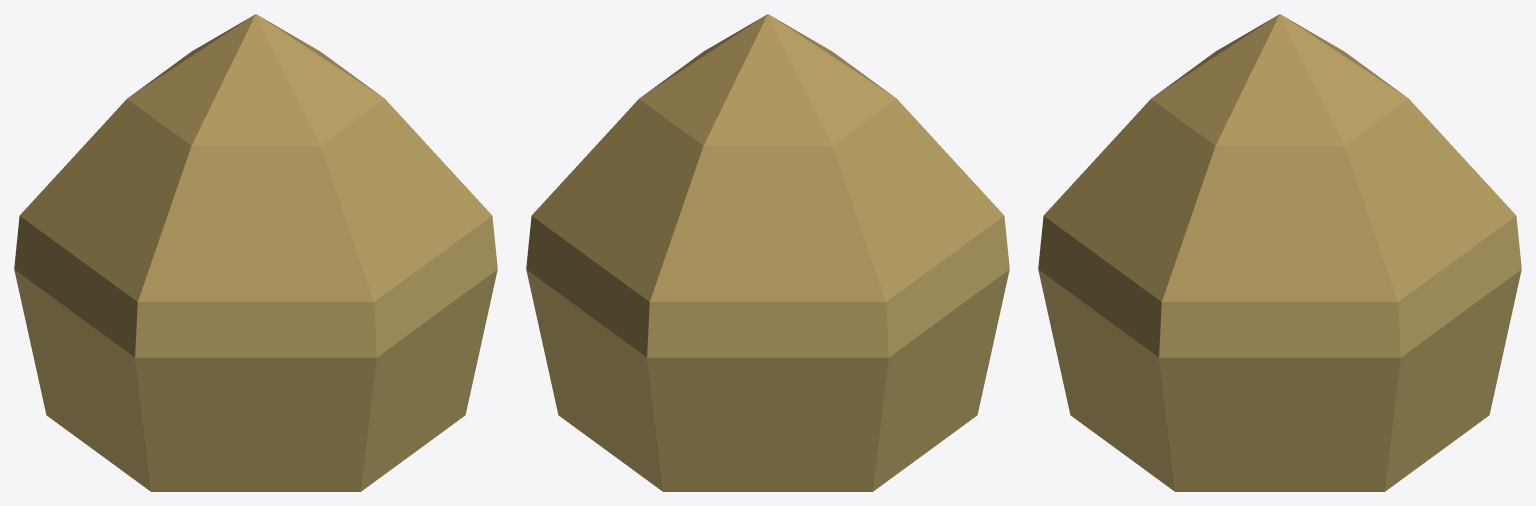
Rendered from land_haystack_far.glb.
3 renders of one model, left to right at view 1: azimuth 30°, elevation 25°; view 2: azimuth 150°, elevation 25°; view 3: azimuth 270°, elevation 25°, orthographic.
Visible parts, largest first — view 1: land_haystack_far; view 2: land_haystack_far; view 3: land_haystack_far.
Boxes of the visible parts, x1,y1,x2,y2 form: land_haystack_far: [14, 14, 497, 491]; land_haystack_far: [526, 14, 1009, 491]; land_haystack_far: [1038, 14, 1521, 491].
Bounding box in the file's own units: 3.9 × 4.12 × 4.5.
